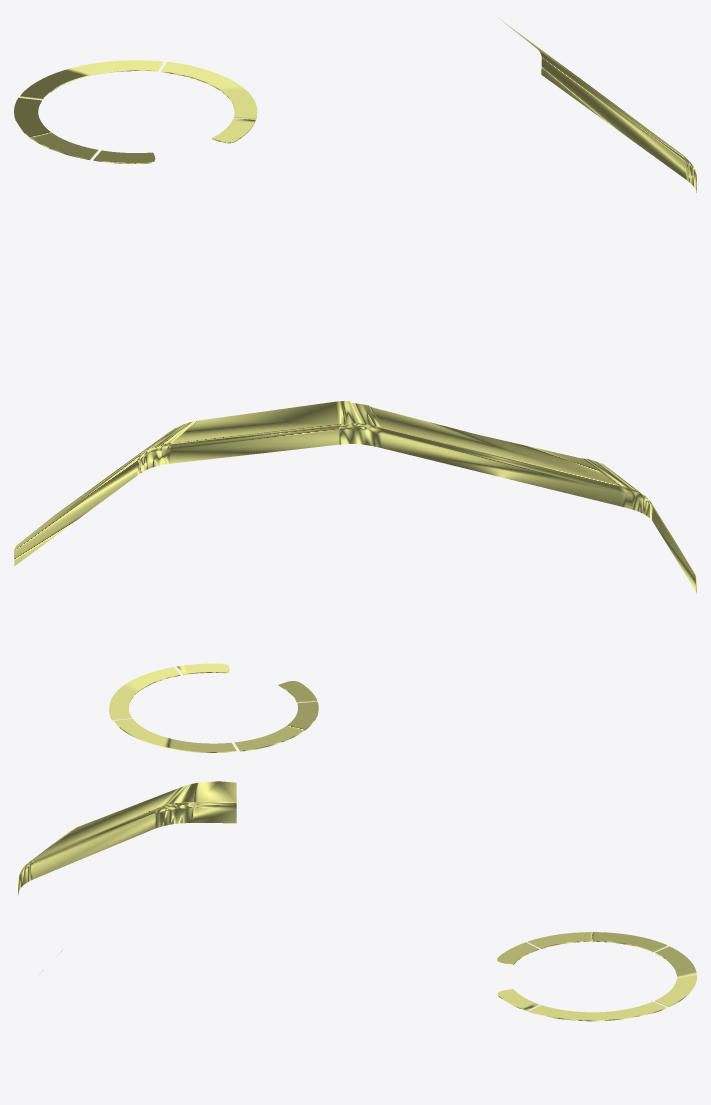
Rendered from voyager_bar_interior_glass.glb.
3 renders of one model, top to bottom at view 1: azimuth 30°, elevation 25°; view 2: azimuth 150°, elevation 25°; view 3: azimuth 270°, elevation 25°, orthographic. The views are drawn at different scales.
Size of the model in its own units: 30.65 by 4.53 by 33.03.
